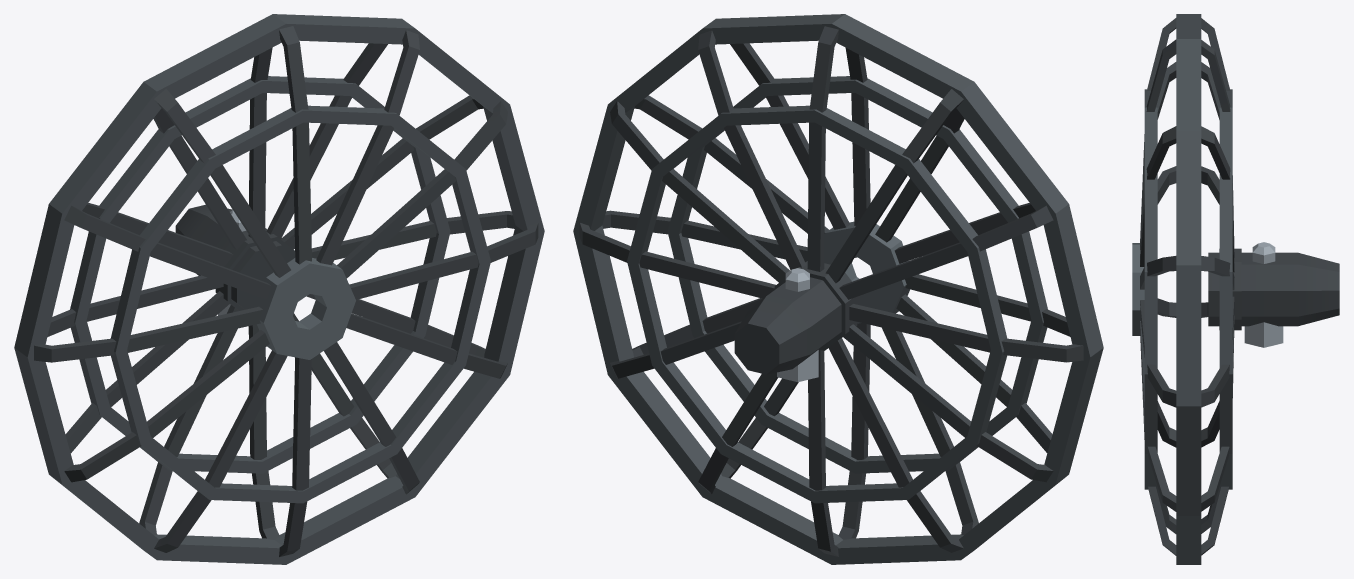
File: SM_Prop_Fan_01_Casing.fbx
3 renders of one model, left to right at view 1: azimuth 30°, elevation 25°; view 2: azimuth 150°, elevation 25°; view 3: azimuth 270°, elevation 25°, orthographic. The views are drawn at different scales.
Parts seen in each view (by area): view 1: SM_Prop_Fan_01_Casing; view 2: SM_Prop_Fan_01_Casing; view 3: SM_Prop_Fan_01_Casing.
Boxes of the visible parts, box(x1,y1,x2,y2) form: SM_Prop_Fan_01_Casing: box(14, 14, 544, 564); SM_Prop_Fan_01_Casing: box(573, 14, 1103, 564); SM_Prop_Fan_01_Casing: box(1132, 14, 1339, 564).
Size of the model in its own units: 130 by 130 by 48.76.
